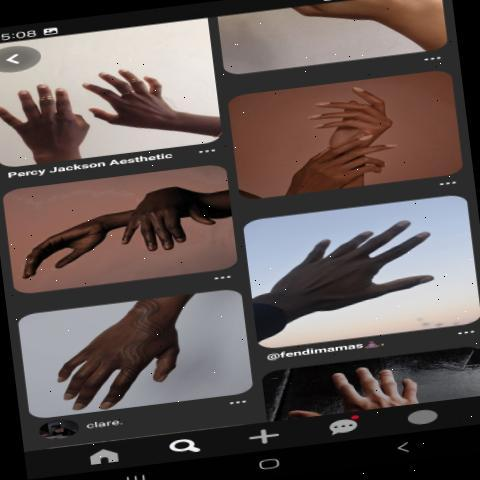Hands: (274, 212, 462, 328), (42, 310, 220, 412), (79, 36, 215, 138), (0, 63, 104, 156), (300, 82, 422, 158), (272, 126, 412, 190), (13, 209, 128, 284), (126, 188, 225, 263)
